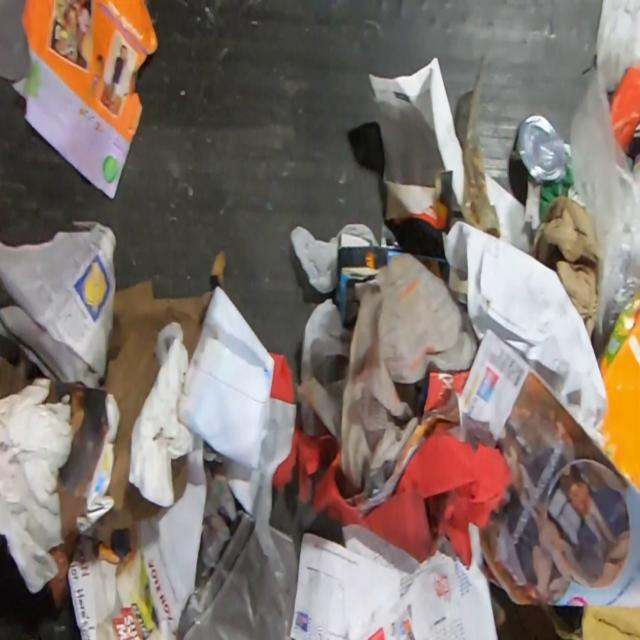cardboard: (98, 246, 228, 530), (528, 195, 602, 342), (596, 287, 640, 497), (382, 168, 455, 282), (494, 591, 640, 640), (610, 67, 640, 157), (0, 350, 30, 401), (171, 454, 186, 504)
metal: (510, 112, 566, 185)
soft_plastic: (335, 250, 478, 489), (568, 49, 640, 355), (460, 45, 500, 237), (287, 223, 379, 295), (299, 298, 353, 403), (0, 0, 28, 83)
